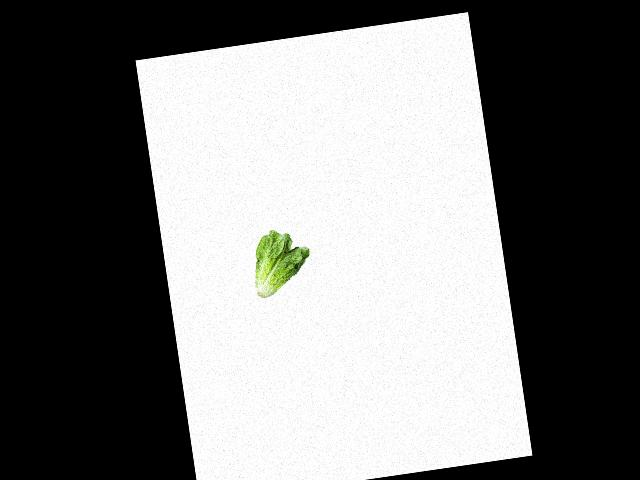lettuce: (242, 225, 318, 303)
